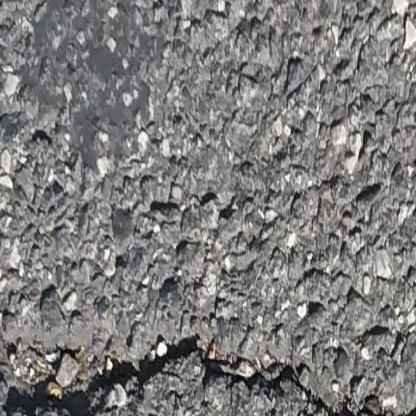Cracks: (0, 333, 416, 416)
